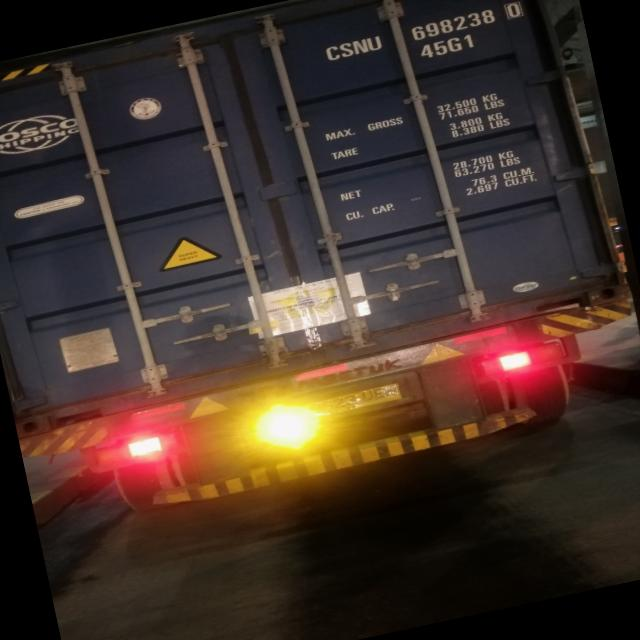seal: (388, 287, 401, 302)
